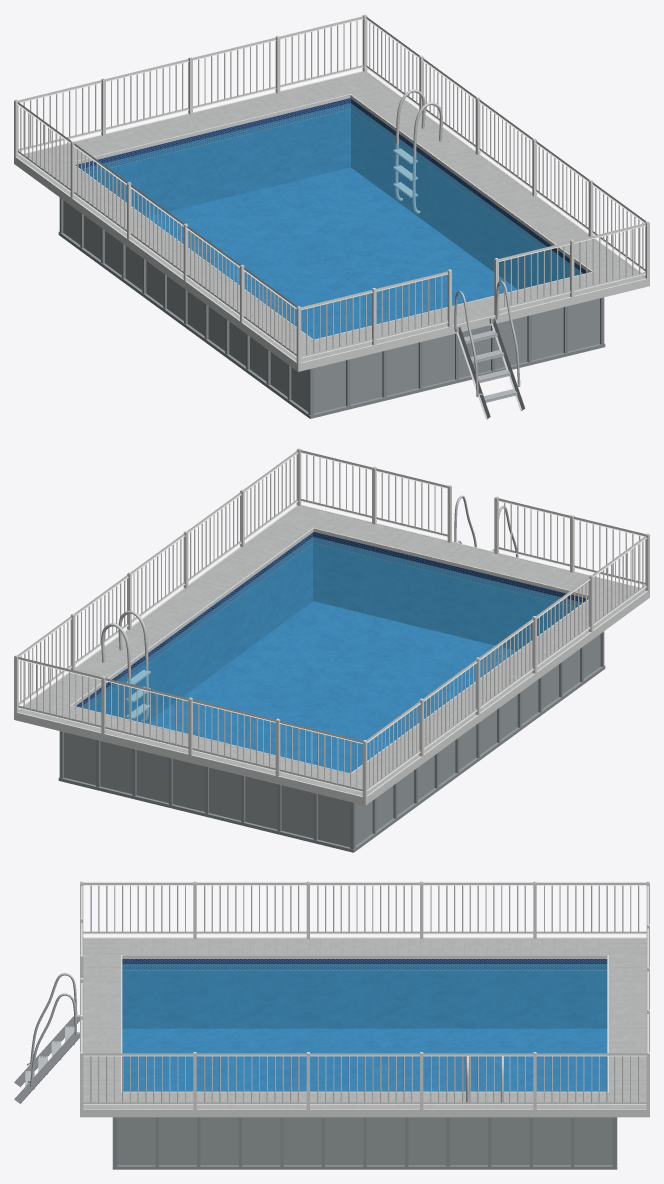
File: kayak-pool-16x24-gray-walk-ag-fence.1561fac0b3.glb
3 renders of one model, top to bottom at view 1: azimuth 30°, elevation 25°; view 2: azimuth 150°, elevation 25°; view 3: azimuth 270°, elevation 25°, orthographic.
Visible parts, largest first — view 1: water, fence, liner_floor, liner_wall, deck, wall, fascia, upright, ladder, steel; view 2: water, fence, liner_floor, liner_wall, deck, wall, fascia, upright, steel; view 3: water, liner_wall, liner_floor, deck, fence, wall, fascia, upright, ladder.
Part boxes in pixels (x1,y1,x2,y2): water: (82, 103, 583, 339); fence: (14, 14, 649, 363); liner_floor: (147, 167, 516, 339); liner_wall: (75, 98, 587, 289); deck: (18, 72, 645, 362); wall: (63, 200, 599, 413); fascia: (14, 71, 649, 371); upright: (58, 197, 605, 418); ladder: (454, 280, 524, 419); steel: (393, 89, 442, 213); water: (80, 537, 581, 772); fence: (14, 448, 649, 797); liner_floor: (146, 601, 516, 773); liner_wall: (76, 532, 587, 723); deck: (18, 505, 646, 795); wall: (64, 634, 600, 847); fascia: (14, 504, 649, 805); upright: (58, 631, 605, 852); steel: (101, 610, 150, 722); water: (122, 964, 607, 1091); liner_wall: (122, 959, 607, 1028); liner_floor: (122, 1028, 607, 1091); deck: (83, 938, 646, 1108); fence: (80, 881, 649, 1109); wall: (117, 1117, 612, 1165); fascia: (80, 937, 649, 1117); upright: (112, 1117, 617, 1169); ladder: (14, 973, 79, 1103).
Size of the model in its own units: 6.1 by 2.15 by 9.52.
Materials: 11 (3 with a texture image).
